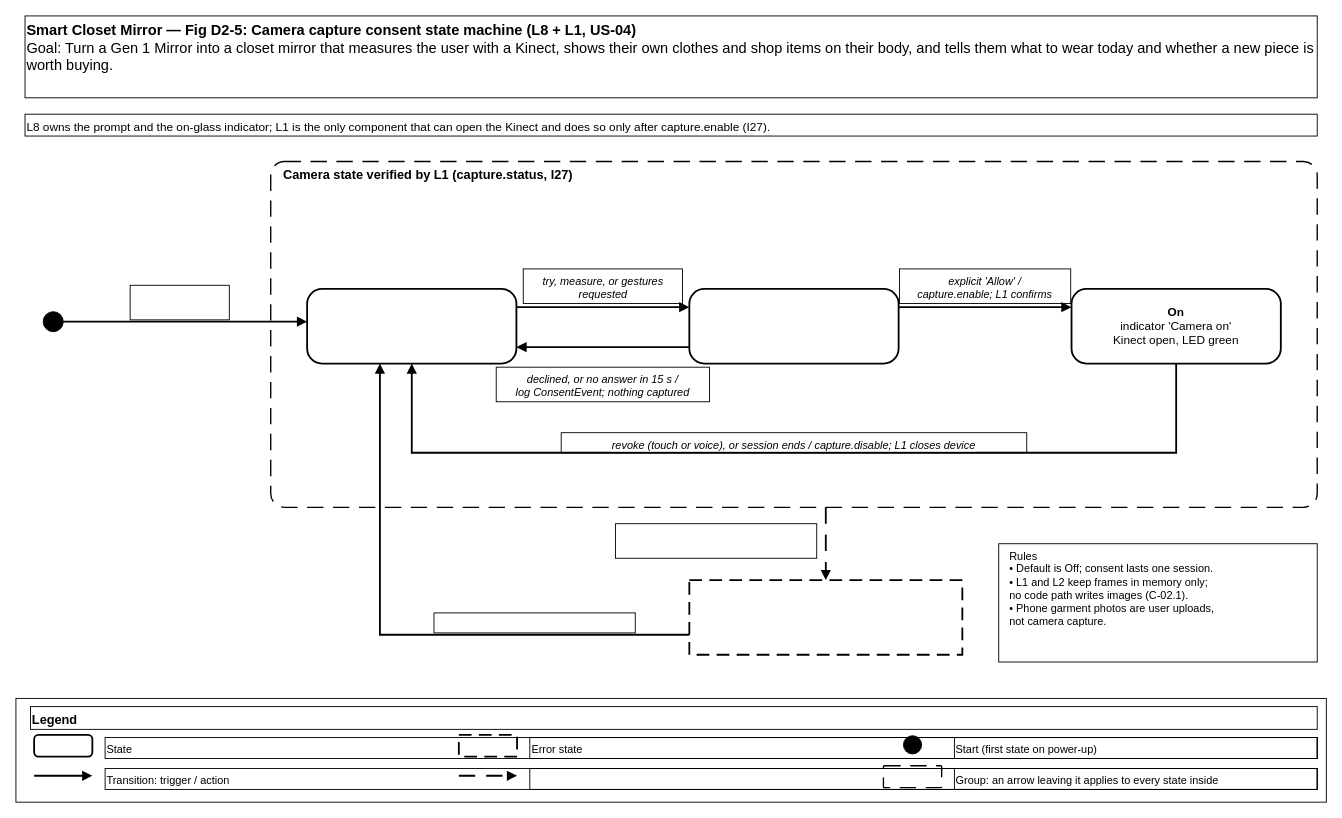
Some shapes in this 1342 by 818 pixel diagram are drawn without their labels. Here are the shapes that lost their labels. From the top down, the box of each, then its label:
(129, 284, 229, 320): boot, and every new session
(306, 288, 517, 364): Off indicator 'Camera off' Kinect closed, LED off
(688, 288, 899, 364): Asking 'Allow the camera for this session?'
(615, 523, 817, 558): no status reply in 2 s, or reply contradicts expected state
(433, 612, 635, 633): L1 verifies the Kinect is closed
(688, 579, 963, 655): Unknown 'Camera status unknown' image functions blocked
(529, 768, 1317, 789): Error or timeout transition
